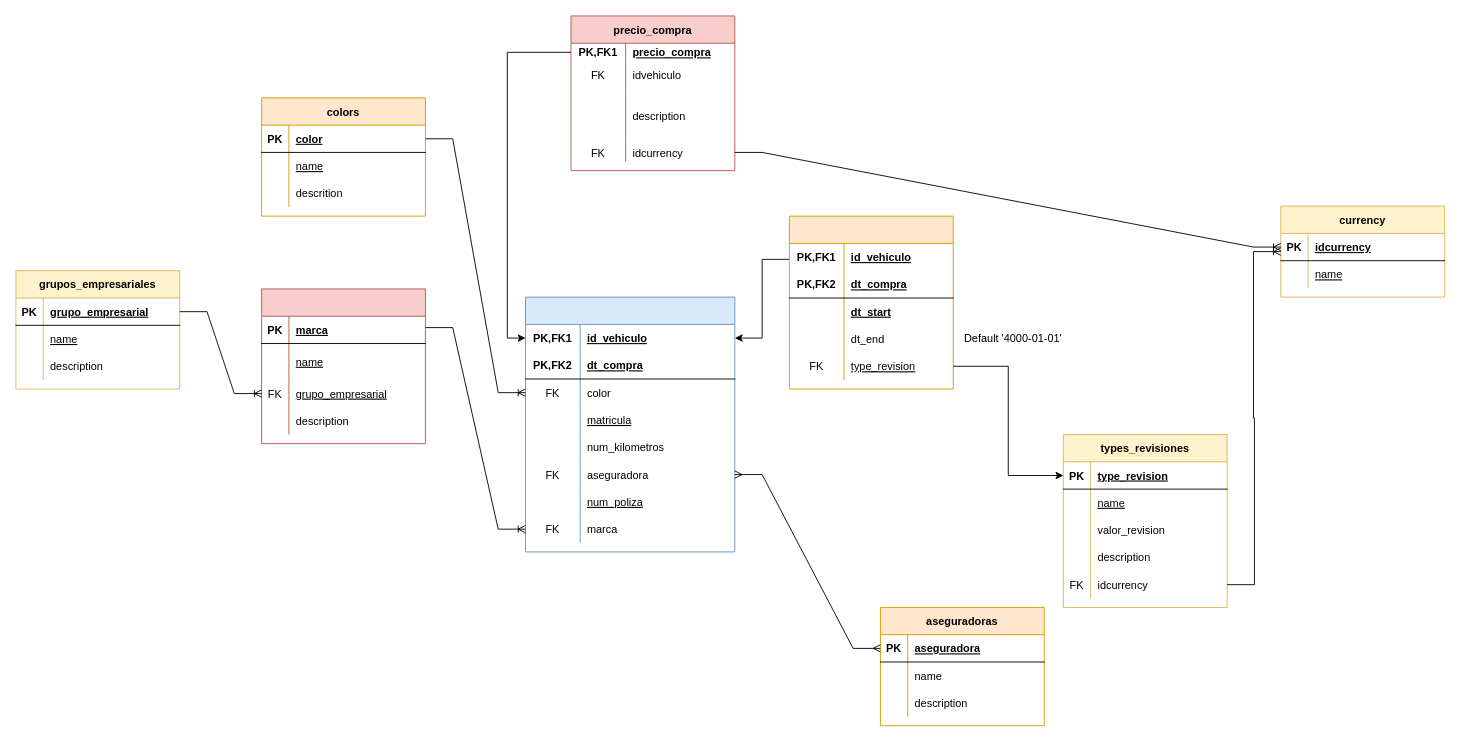
Some shapes in this 1461 by 742 pixel diagram are drawn without their labels. Here are the shapes that lost their labels. From the top down, the box of each, then its label:
(789, 215, 953, 389): hist_revisiones
(261, 288, 425, 444): marcas
(525, 296, 735, 552): vehiculos_kc
